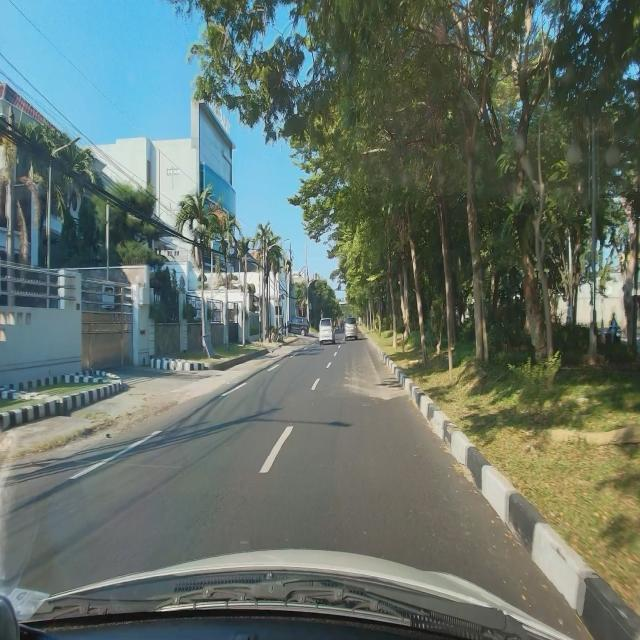car: (318, 316, 335, 348), (344, 316, 358, 343)
